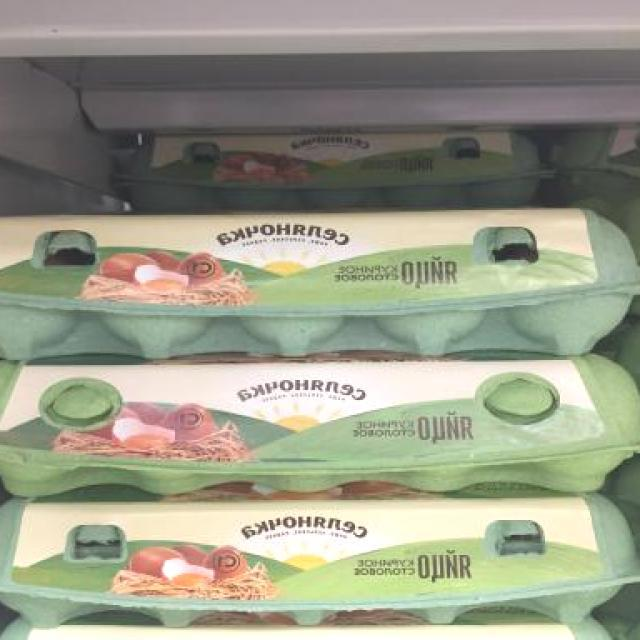Eggs: (0, 192, 640, 366), (0, 348, 640, 504), (0, 489, 640, 634), (109, 126, 554, 216), (1, 621, 637, 640)
